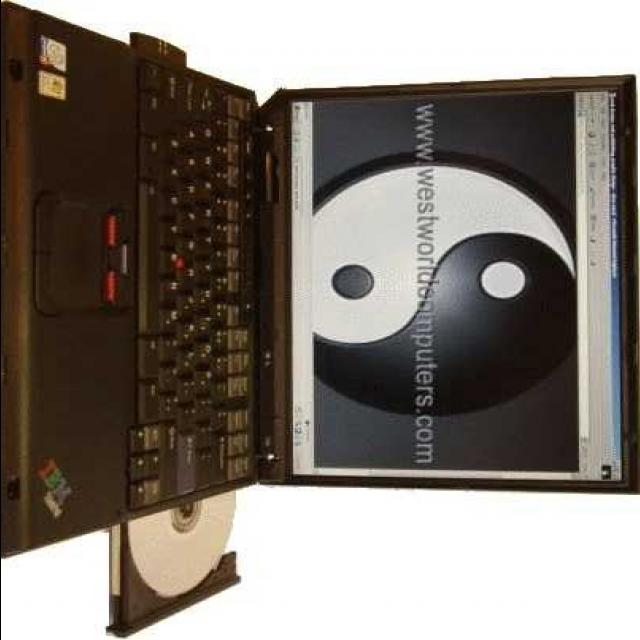laptop: (3, 81, 630, 502)
